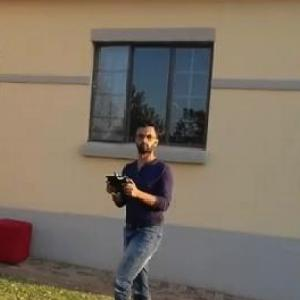follow: (92, 114, 174, 299)
